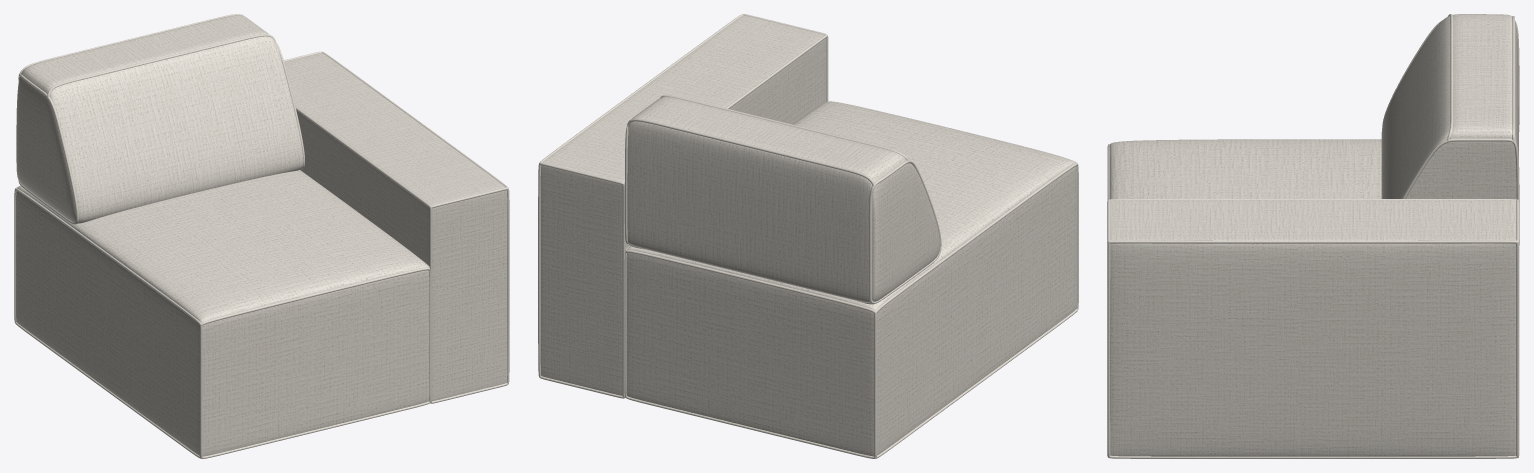
Rendered from left_1_seater_arm_105_alpine_ivory.glb.
3 renders of one model, left to right at view 1: azimuth 30°, elevation 25°; view 2: azimuth 150°, elevation 25°; view 3: azimuth 270°, elevation 25°, orthographic. The views are drawn at different scales.
Visible parts, largest first — view 1: Box093, Box097, Box088, Shape043, Shape048, Shape039; view 2: Box093, Box097, Box088, Shape043, Shape048, Shape039; view 3: Box088, Box097, Box093, Shape048, Shape039.
Boxes of the visible parts, <box> form: Box093: <box>16,170,429,456</box>; Box097: <box>16,15,303,223</box>; Box088: <box>284,53,507,400</box>; Shape043: <box>14,186,430,458</box>; Shape048: <box>284,51,509,403</box>; Shape039: <box>18,14,305,224</box>; Box093: <box>626,101,1076,456</box>; Box097: <box>627,96,940,302</box>; Box088: <box>540,15,826,395</box>; Shape043: <box>624,160,1078,458</box>; Shape048: <box>538,14,828,398</box>; Shape039: <box>624,95,941,304</box>; Box088: <box>1110,200,1516,456</box>; Box097: <box>1381,14,1518,199</box>; Box093: <box>1109,139,1381,199</box>; Shape048: <box>1107,199,1519,458</box>; Shape039: <box>1382,14,1519,244</box>.
Bounding box in the file's own units: 1.03 × 0.8369 × 1.07.
2 materials, 2 textured.
